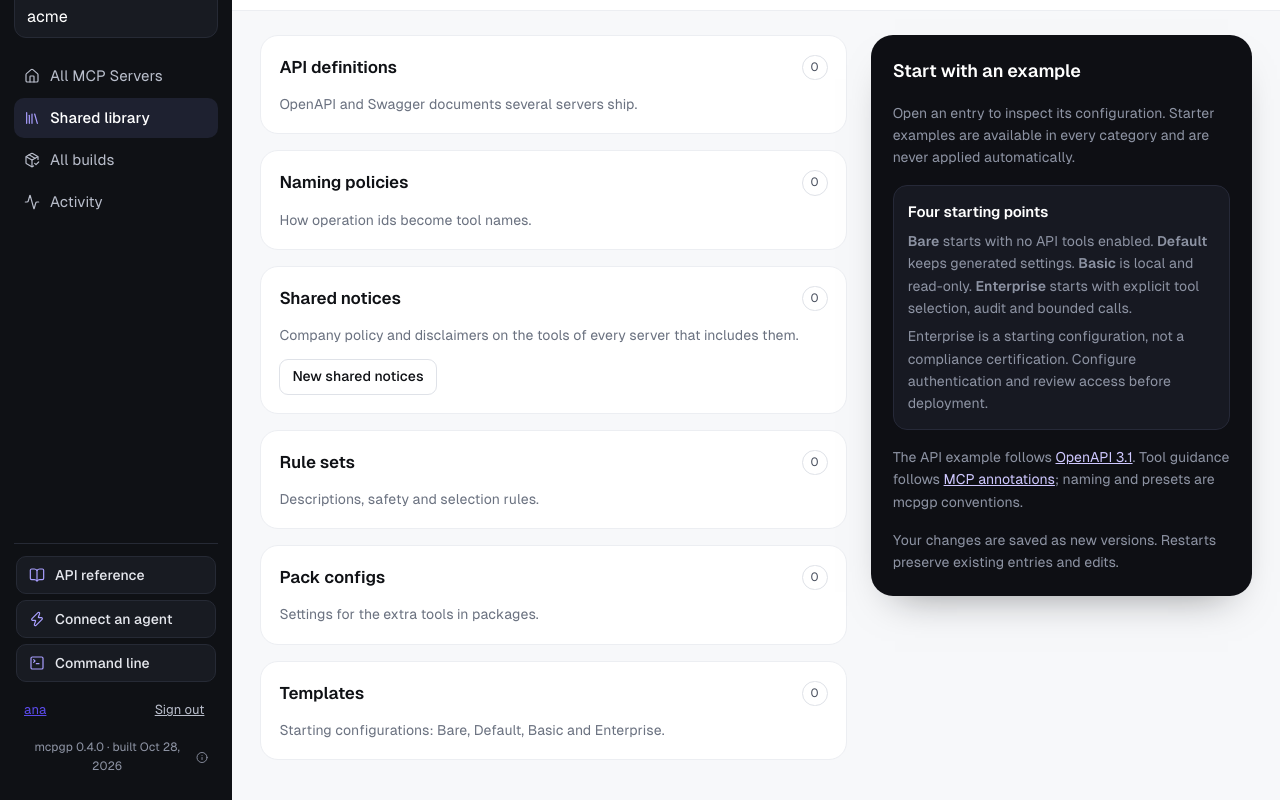
Scenario: version and build date › shows the release and when it was built, with the details in About
The width and height of the screenshot is (1280, 800).
(page scrolled)
Step 1. Click the button "mcpgp 0.4.0 · built Oct 28, 2026" → (116,757), box x1=24 y1=736 x2=208 y2=778
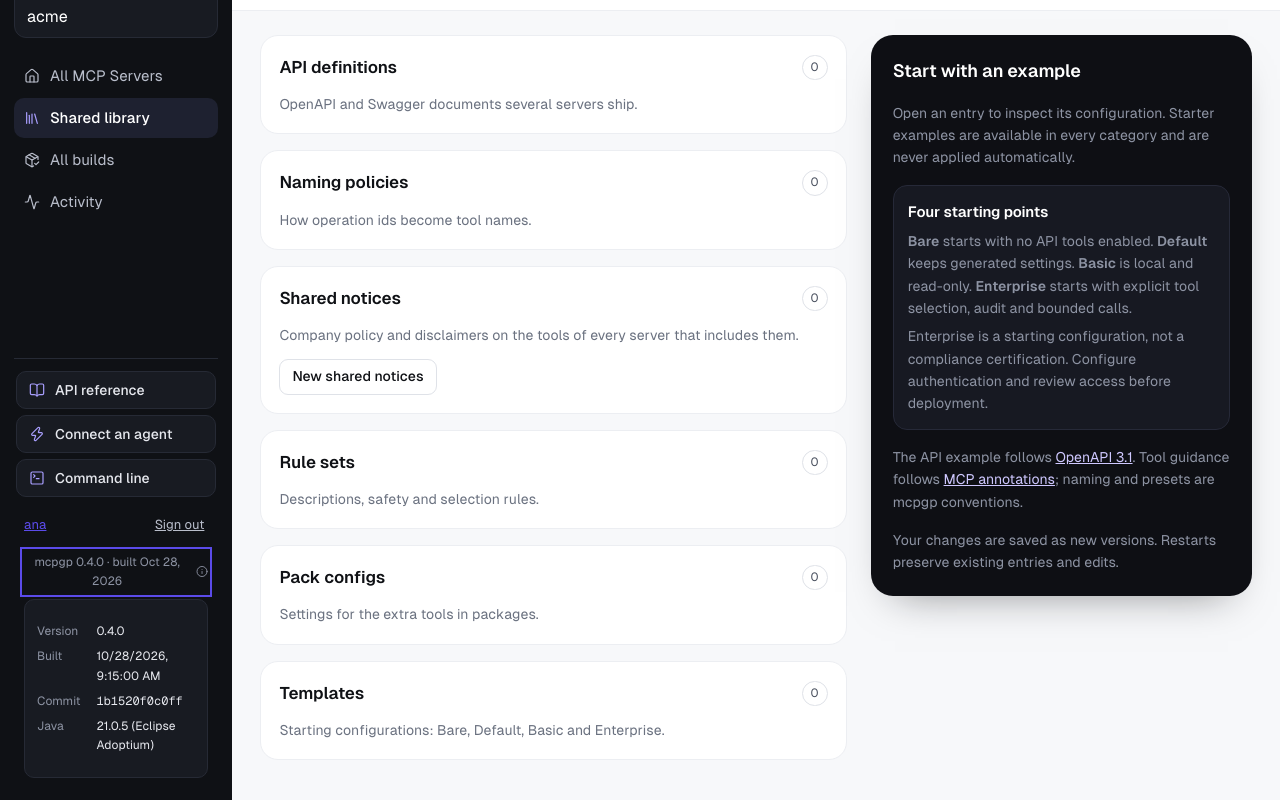
Expected: the text "1b1520f0c0ff" is shown, x1=96 y1=692 x2=195 y2=711
Expected: the text "21.0.5 (Eclipse Adoptium)" is shown, x1=96 y1=719 x2=176 y2=752
